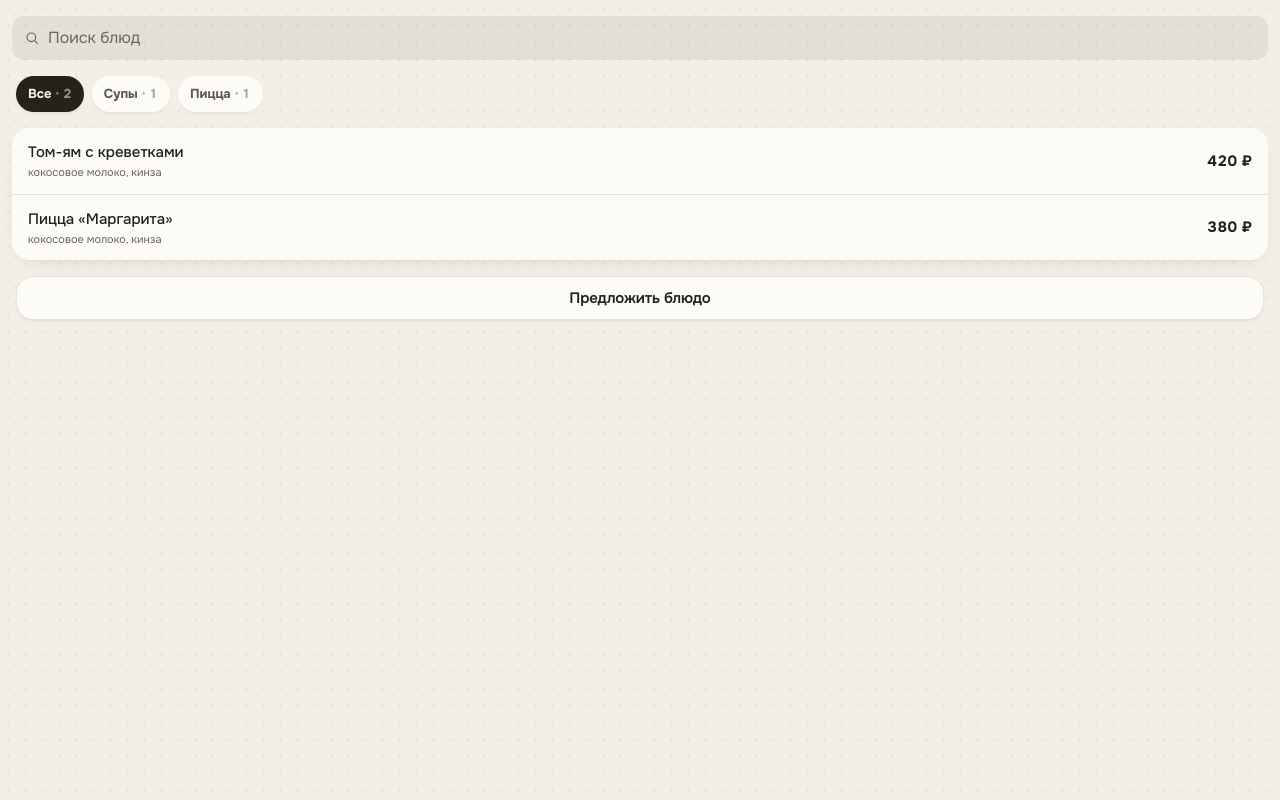
it: MenuPage — состояние фильтра, деньги и поиск › очистка поиска возвращает список одним касанием
In the field labelled "Поиск блюд": (652, 38) [48,25,1256,51], type "несуществующее"
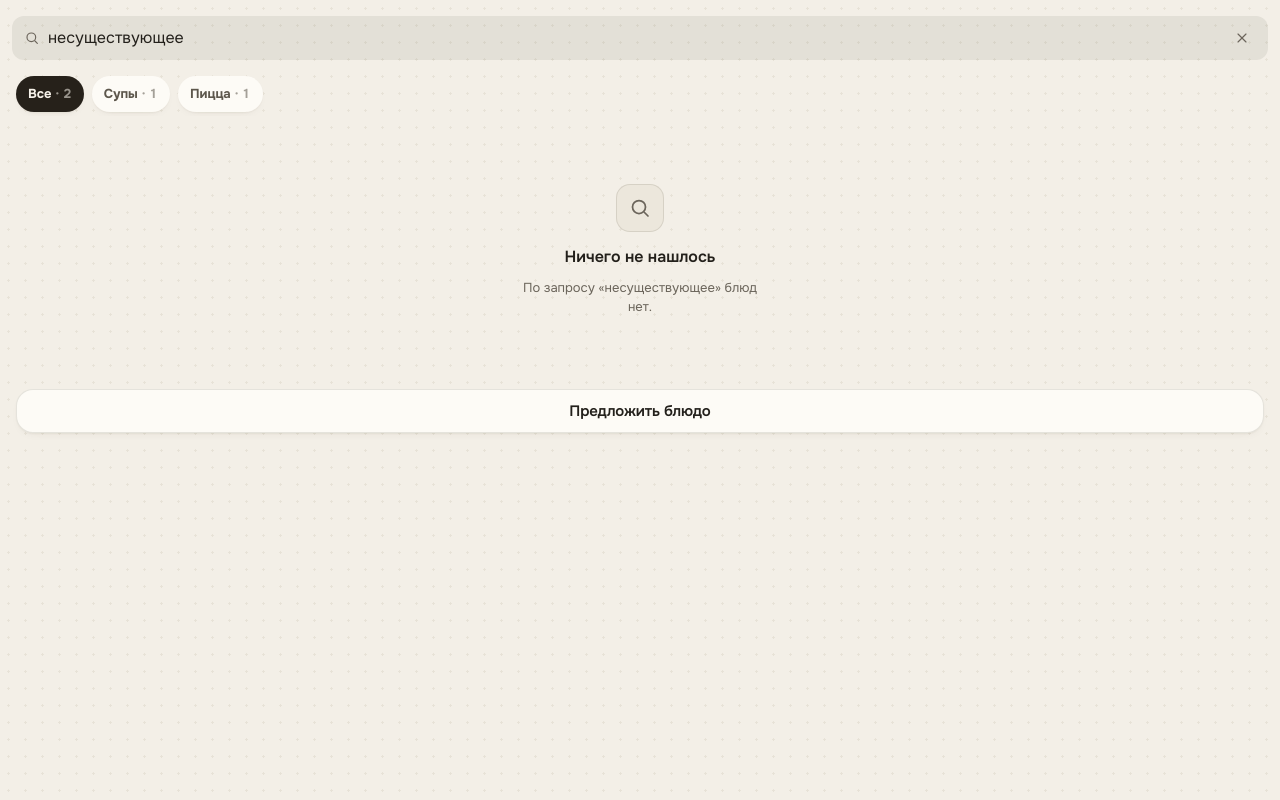
Now the heading "Ничего не нашлось" is shown, box [564,244,716,270]
Click the button named "Очистить поиск": (1242, 38) [1220,16,1264,60]
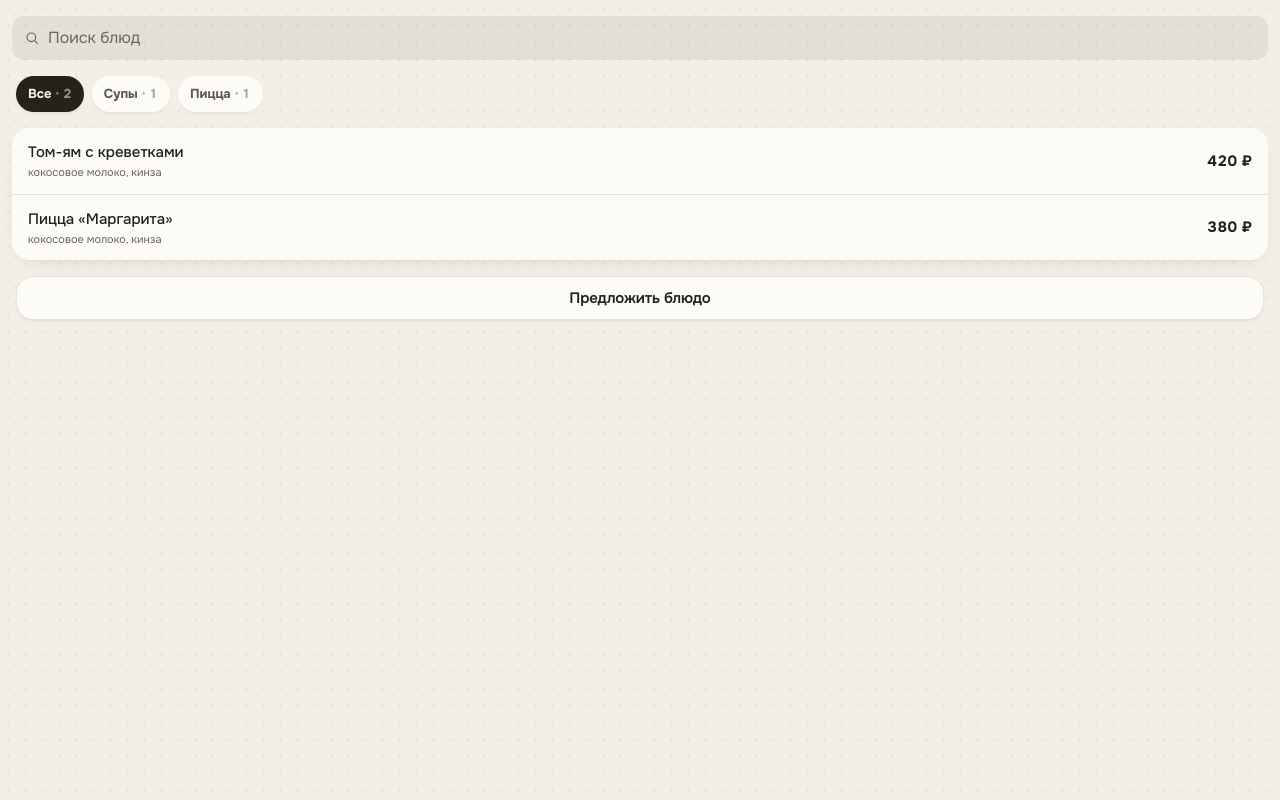
Now the heading "Ничего не нашлось" is gone
Now the field labelled "Поиск блюд" is empty, box [48,25,1256,51]
